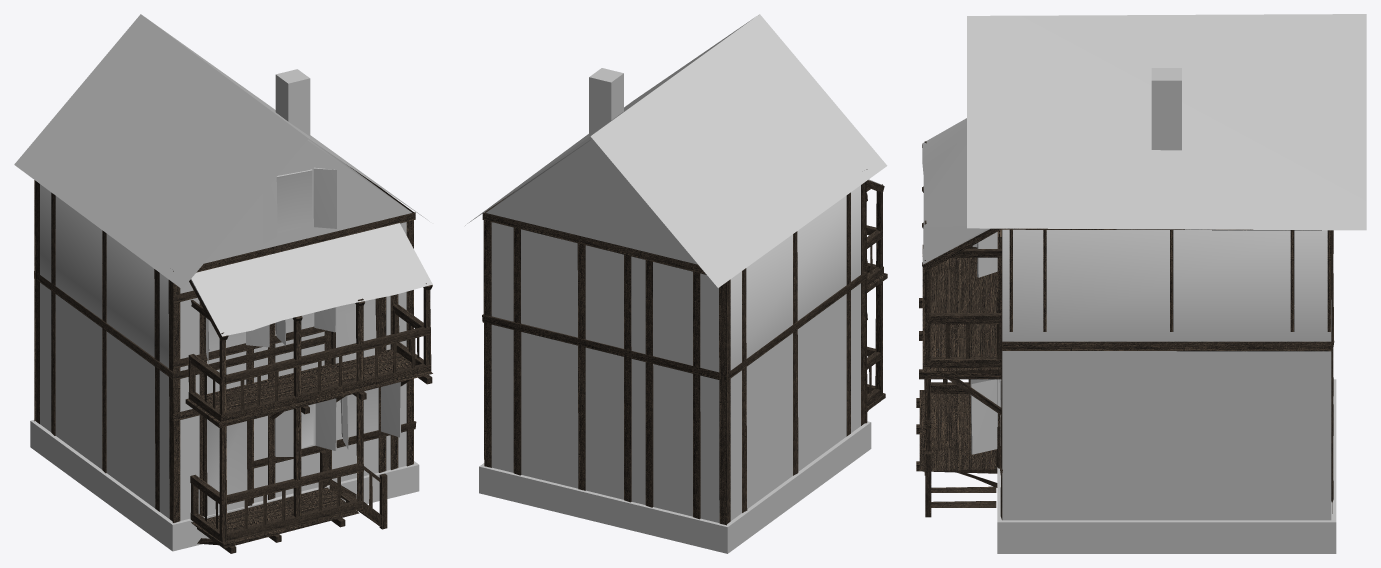
The model's file is house3_LOD1.fbx.
3 renders of one model, left to right at view 1: azimuth 30°, elevation 25°; view 2: azimuth 150°, elevation 25°; view 3: azimuth 270°, elevation 25°, orthographic. The views are drawn at different scales.
Parts seen in each view (by area): view 1: Mesh Object; view 2: Mesh Object; view 3: Mesh Object.
Boxes of the visible parts, box(x1,y1,x2,y2) form: Mesh Object: box(14, 14, 432, 553); Mesh Object: box(465, 14, 887, 553); Mesh Object: box(916, 14, 1366, 553).
Bounding box in the file's own units: 8.2 × 12.21 × 10.64.
